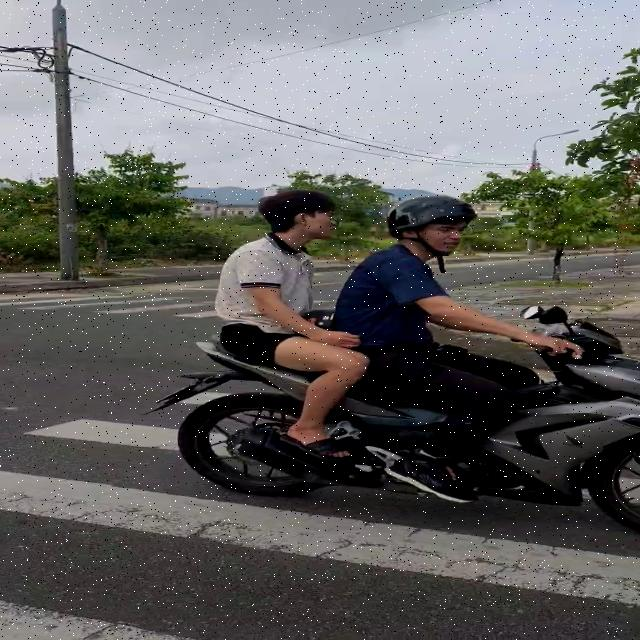no_helmet: (254, 184, 339, 247)
